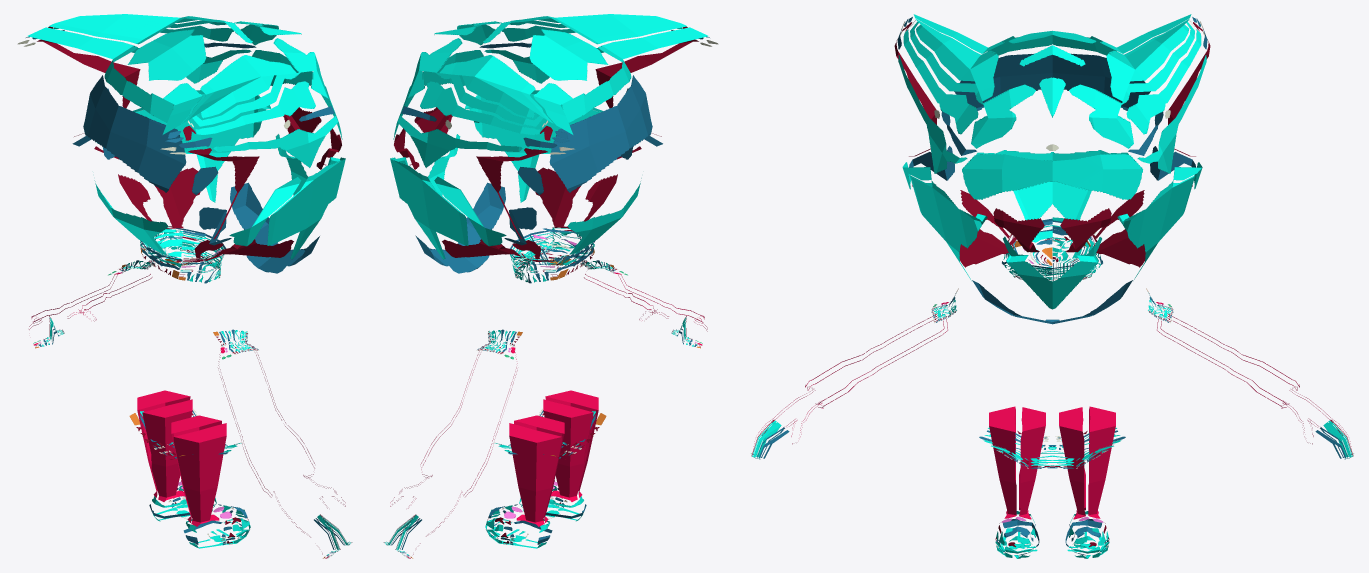
File: creature_1.obj
3 views of the same model, side by side, from view 1: azimuth 30°, elevation 25°; view 2: azimuth 150°, elevation 25°; view 3: azimuth 270°, elevation 25° (orthographic). The views are drawn at different scales.
Parts seen in each view (by area): view 1: Plane.001, Cube.001_Cube.003; view 2: Plane.001, Cube.001_Cube.003; view 3: Plane.001, Cube.001_Cube.003.
Part boxes in pixels (x1=…): Plane.001: x1=17, y1=14, x2=352, y2=558; Cube.001_Cube.003: x1=137, y1=390, x2=250, y2=548; Plane.001: x1=383, y1=14, x2=718, y2=558; Cube.001_Cube.003: x1=485, y1=390, x2=598, y2=548; Plane.001: x1=751, y1=14, x2=1353, y2=468; Cube.001_Cube.003: x1=989, y1=406, x2=1115, y2=558.
Size of the model in its own units: 2.17 by 4.31 by 4.57.
